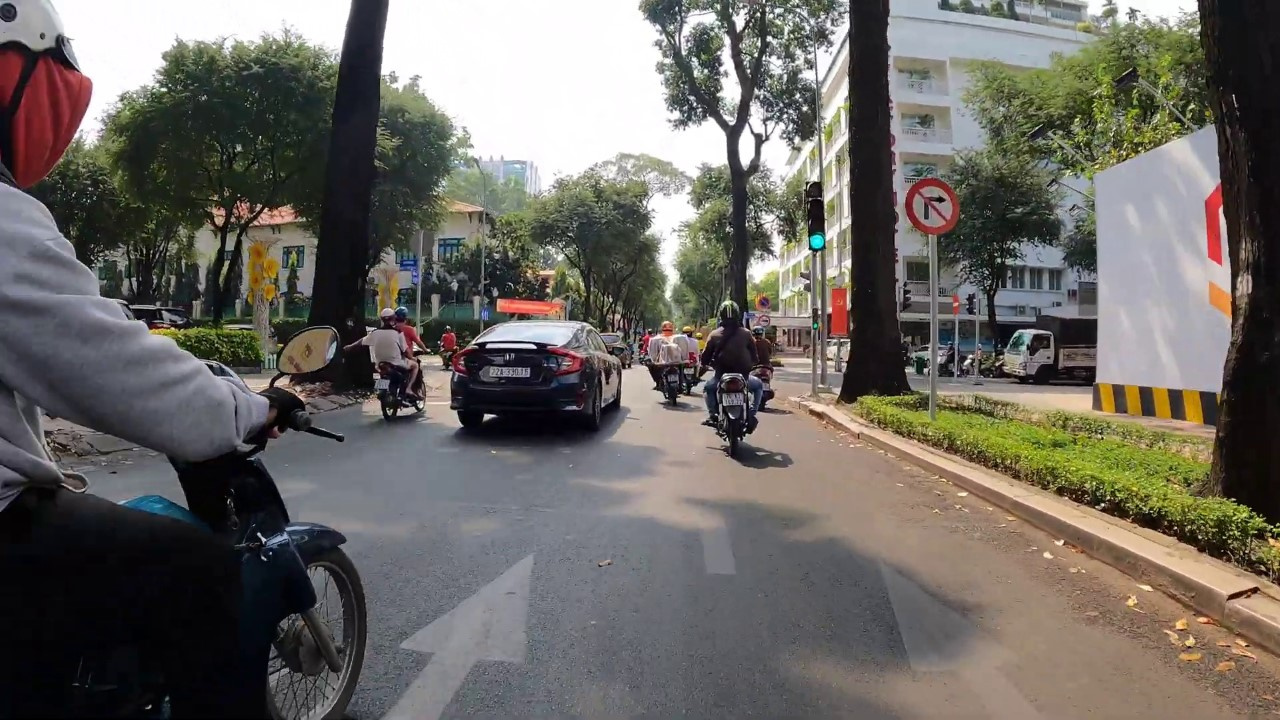cam_do_xe: (758, 296, 770, 309)
cam_re_phai: (905, 177, 961, 236)
